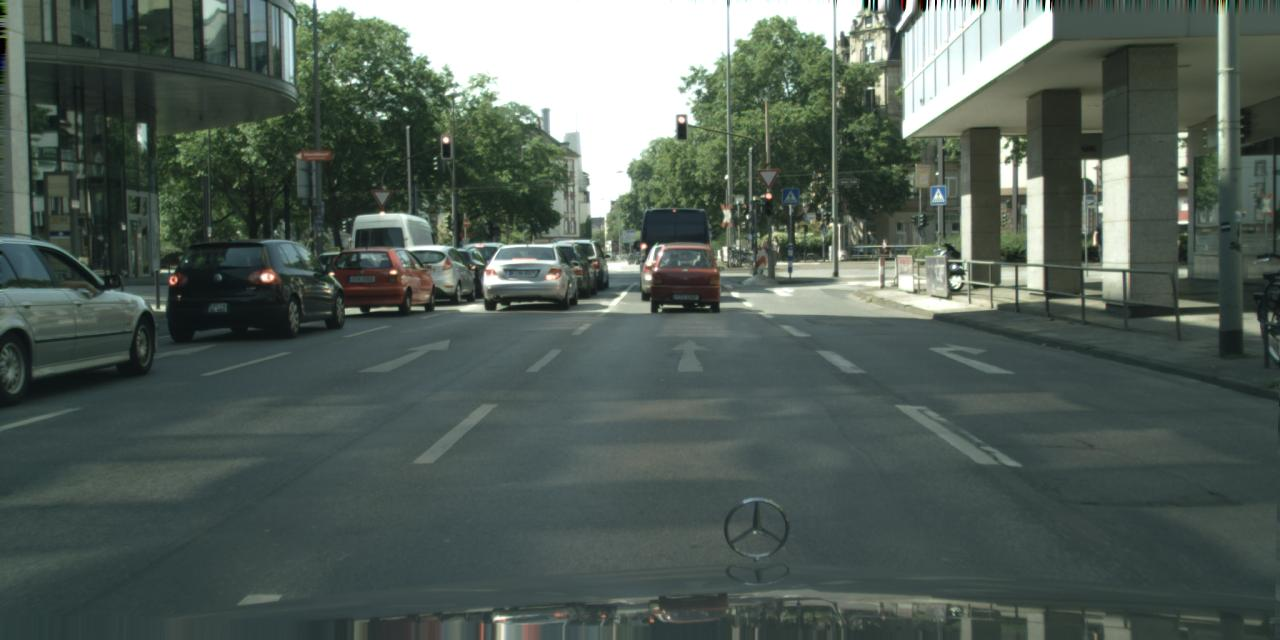ped: (1095, 211, 1119, 270), (769, 235, 780, 262), (760, 238, 770, 262), (881, 238, 888, 256)
